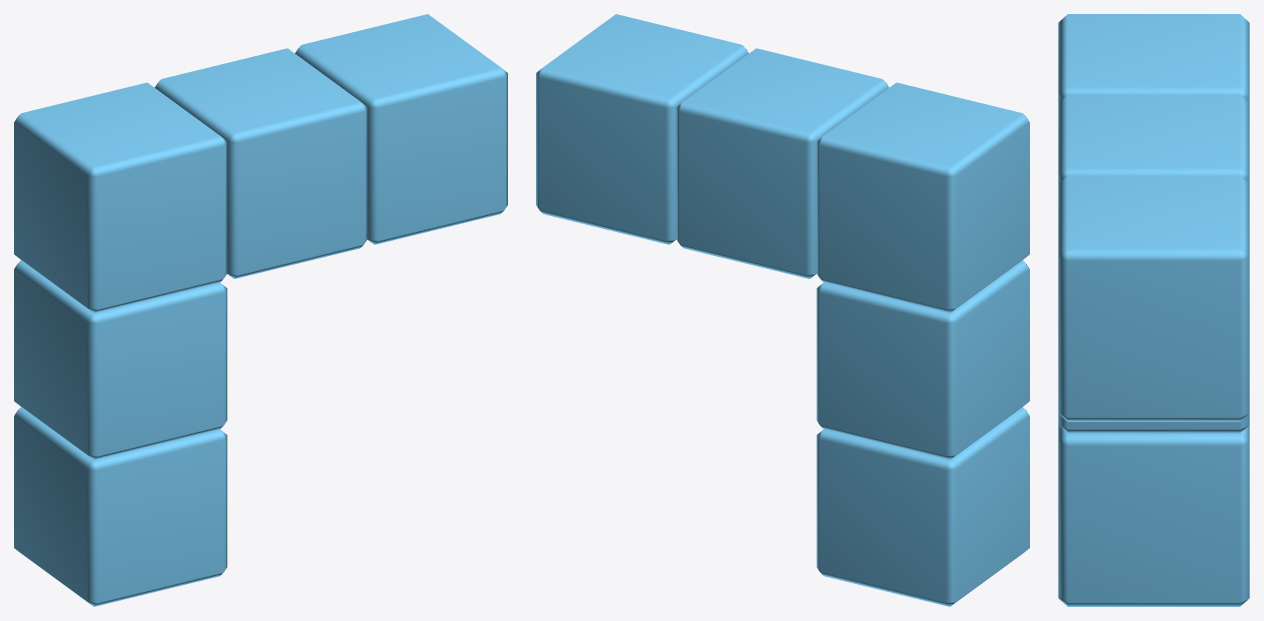
Rendered from FinOcean4.fbx.
3 views of the same model, side by side, from view 1: azimuth 30°, elevation 25°; view 2: azimuth 150°, elevation 25°; view 3: azimuth 270°, elevation 25° (orthographic). The views are drawn at different scales.
Parts seen in each view (by area): view 1: geo1; view 2: geo1; view 3: geo1.
Part boxes in pixels (x1=…): geo1: x1=14, y1=14, x2=507, y2=606; geo1: x1=536, y1=14, x2=1029, y2=606; geo1: x1=1058, y1=14, x2=1249, y2=606.
Size of the model in its own units: 3 by 3 by 1.
